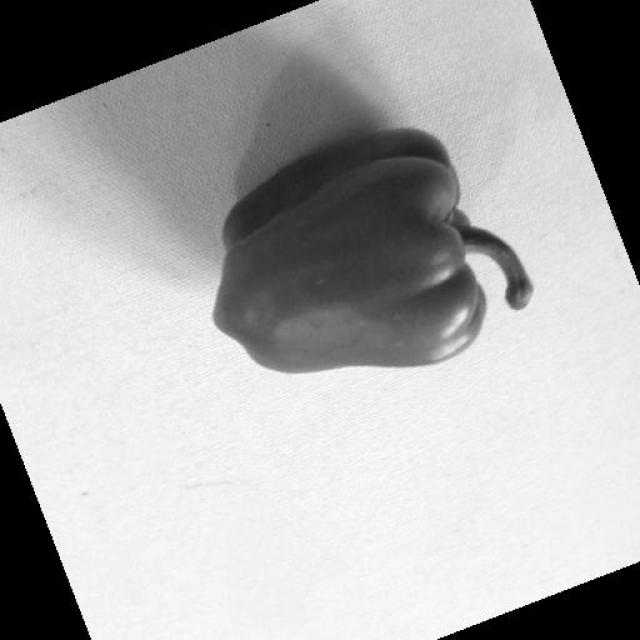Fresh_Capsicum: (193, 128, 564, 372)
